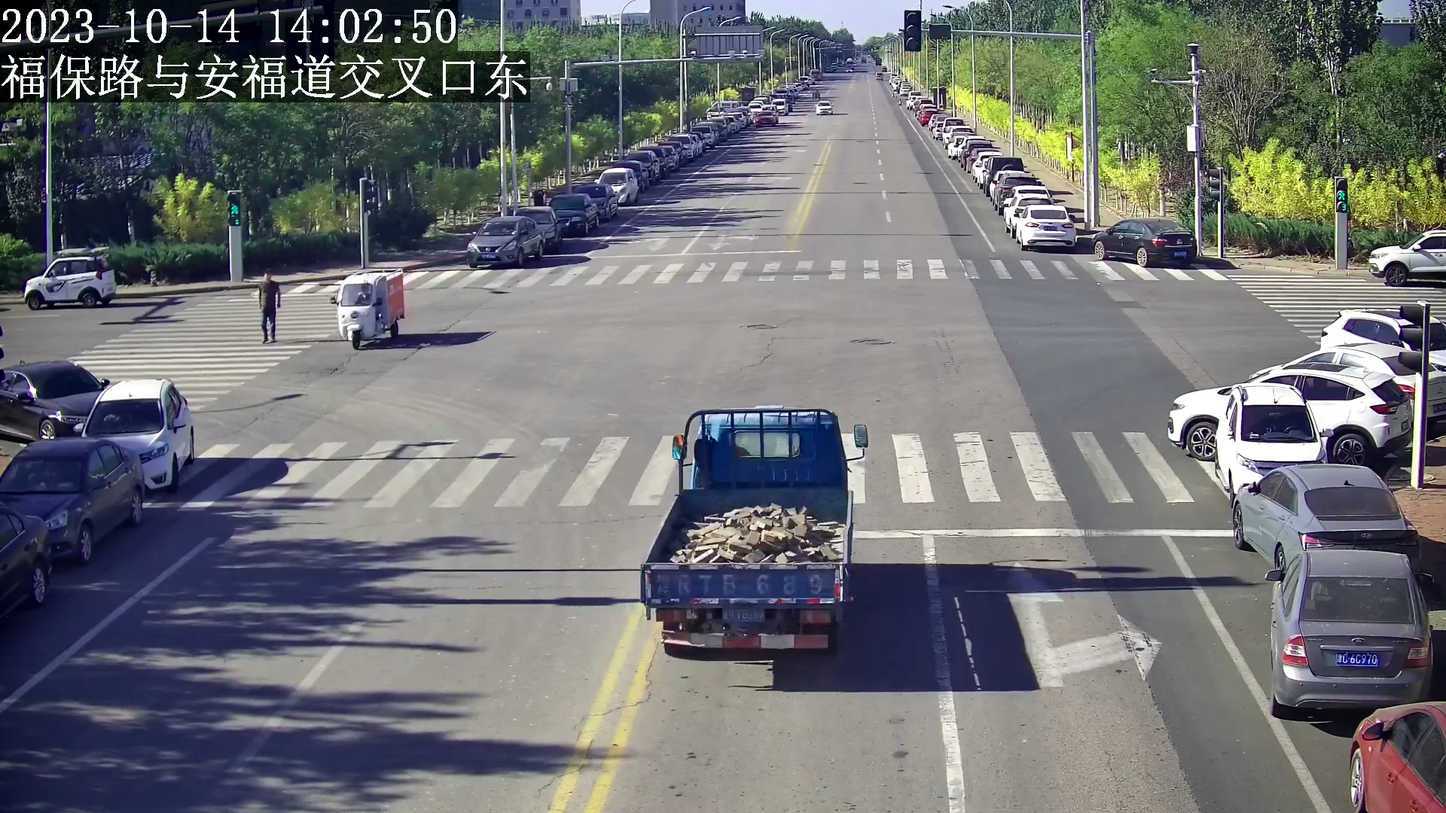person: (255, 268, 282, 347)
vehicle: (634, 398, 870, 663), (1258, 544, 1438, 721), (1164, 362, 1415, 463), (1226, 463, 1417, 567), (0, 436, 143, 560), (78, 377, 198, 489), (1216, 382, 1328, 489), (0, 357, 105, 440), (328, 266, 407, 351), (1091, 212, 1200, 269), (20, 253, 119, 309), (1362, 222, 1446, 286), (464, 212, 543, 272), (1012, 202, 1081, 253)
